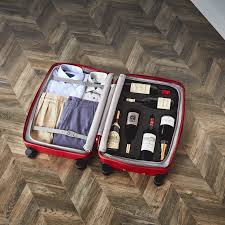suitcase: (21, 59, 186, 187)
